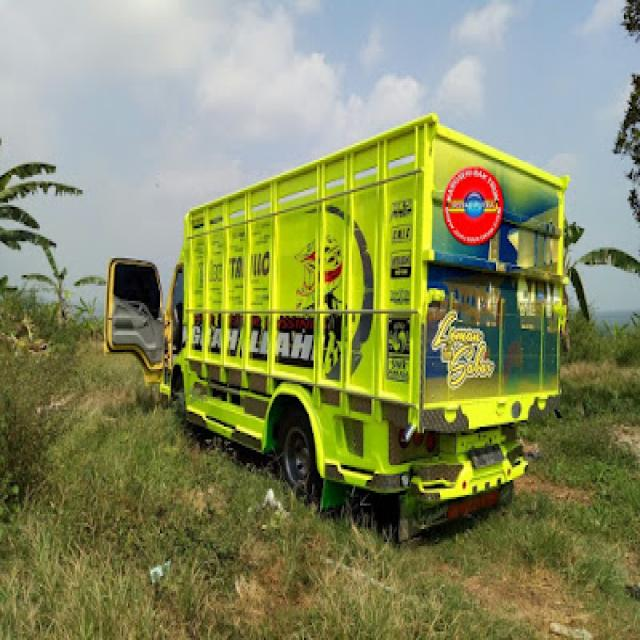truck: (102, 109, 570, 514)
